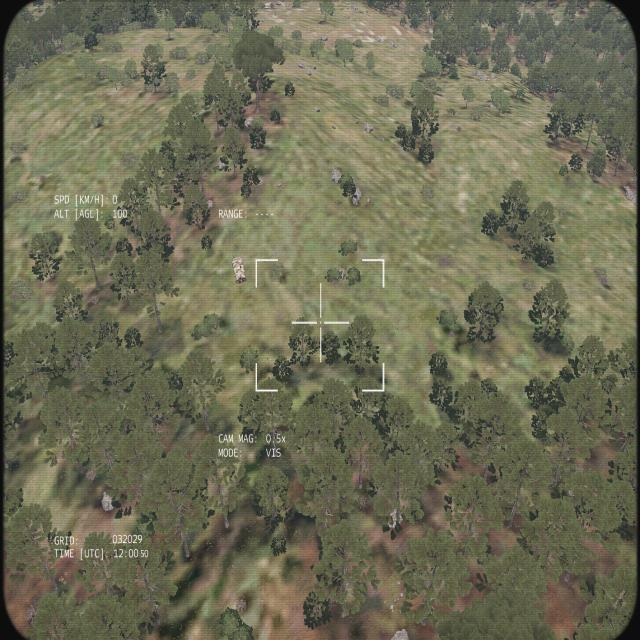apc: (230, 256, 248, 286)
